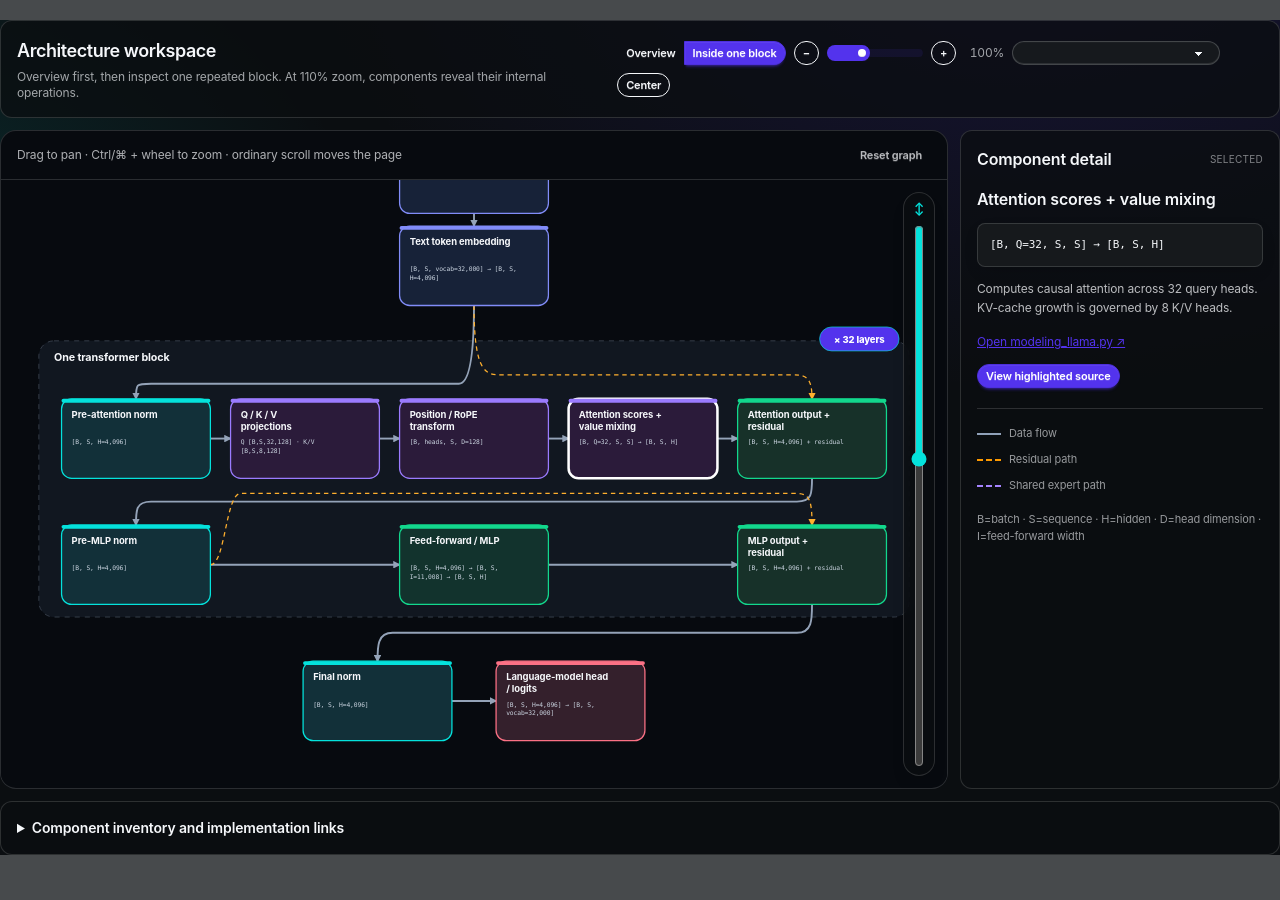
Scenario: ArchitectureFlowExplorer › shows implementation source inline when available
Click the button "View highlighted source" at (1048, 376), box x1=977 y1=364 x2=1120 y2=388
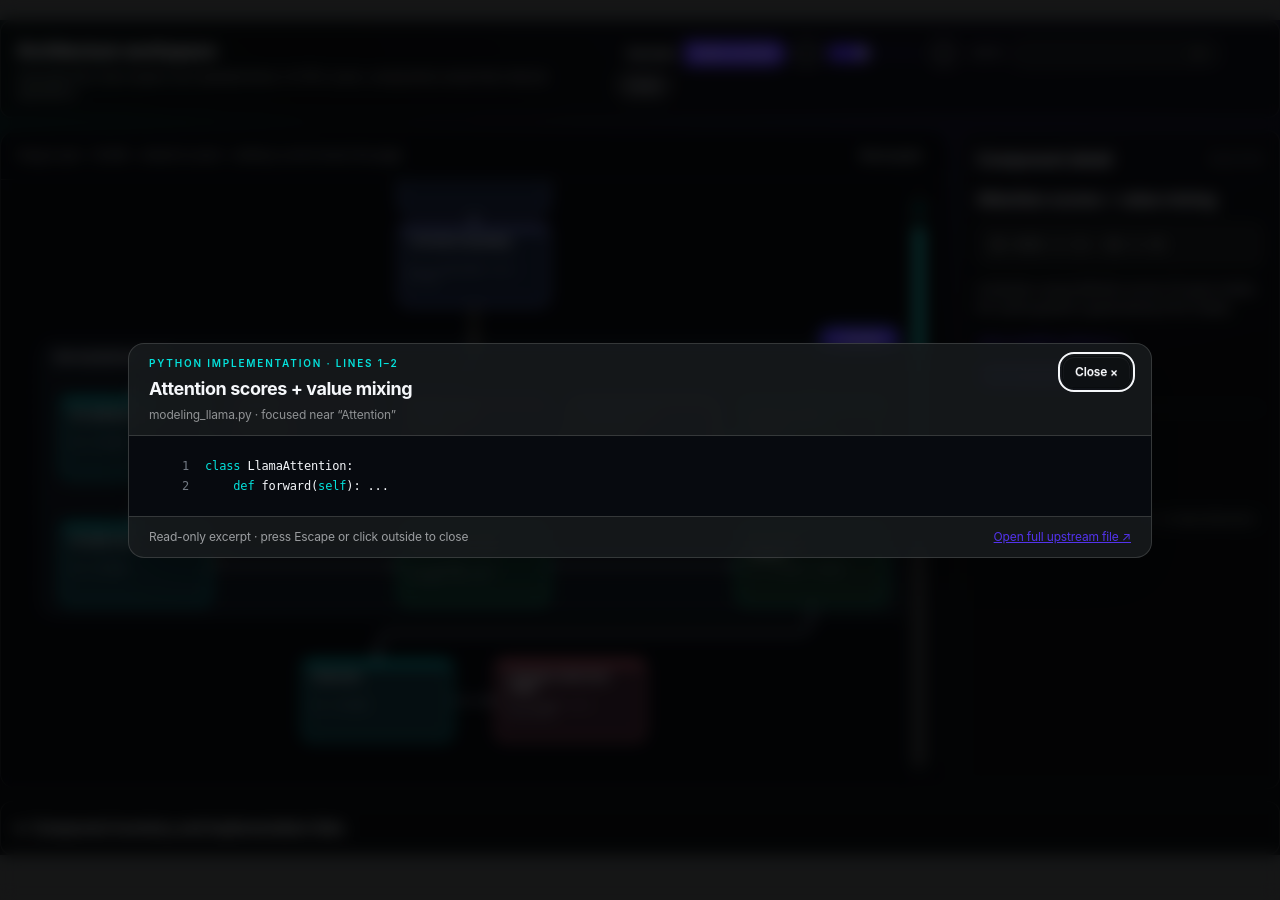
Check: the dialog is shown, box x1=128 y1=342 x2=1152 y2=558
Check: the text "class" is shown, box x1=205 y1=458 x2=240 y2=472
